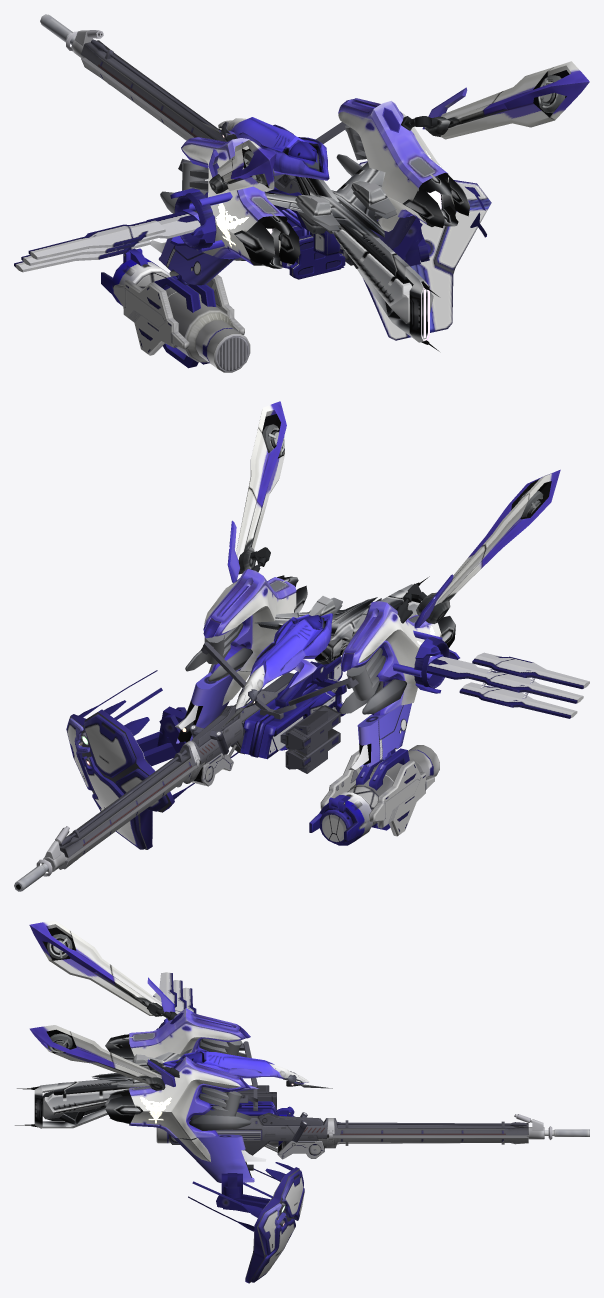
3 renders of one model, top to bottom at view 1: azimuth 30°, elevation 25°; view 2: azimuth 150°, elevation 25°; view 3: azimuth 270°, elevation 25°, orthographic. The views are drawn at different scales.
Visible parts, largest first — view 1: body; view 2: body; view 3: body.
Part boxes in pixels (x1,y1,x2,y2): body: (14,14,589,372); body: (14,401,589,891); body: (15,920,589,1283).
Bounding box in the file's own units: 42.44 × 29.85 × 60.64.
2 materials, 2 textured.
